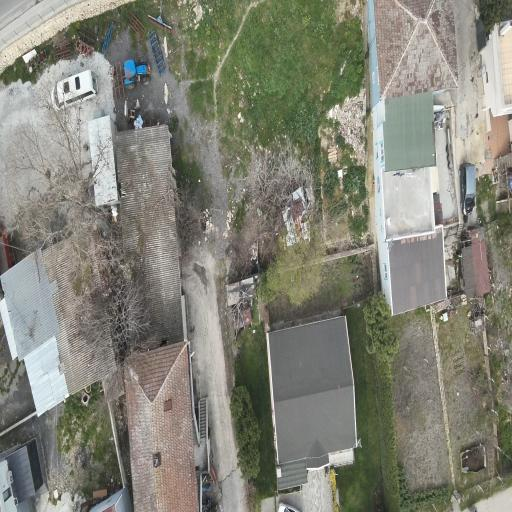car: (50, 70, 98, 109), (459, 164, 475, 216), (124, 60, 150, 89), (278, 503, 299, 511)
